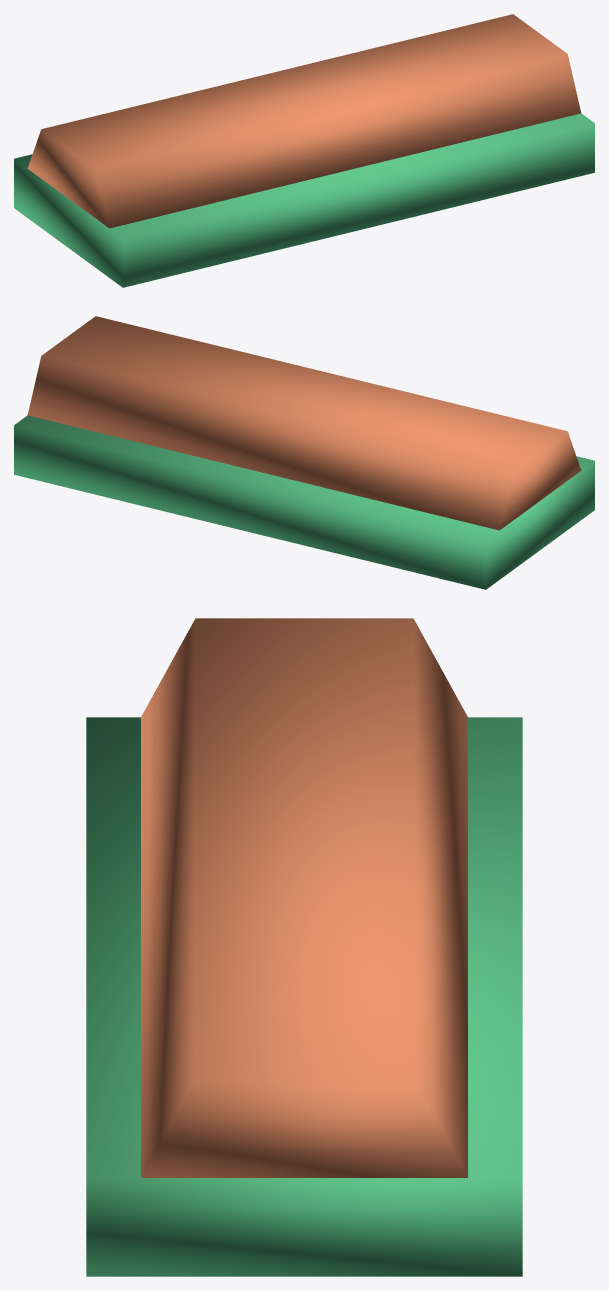
The model's file is cabin-doorway-center_lev3.glb.
3 renders of one model, top to bottom at view 1: azimuth 30°, elevation 25°; view 2: azimuth 150°, elevation 25°; view 3: azimuth 270°, elevation 25°, orthographic. The views are drawn at different scales.
Parts seen in each view (by area): view 1: cabin-doorway-center_lev3; view 2: cabin-doorway-center_lev3; view 3: cabin-doorway-center_lev3.
Boxes of the visible parts, x1,y1,x2,y2 form: cabin-doorway-center_lev3: (14,14,594,287); cabin-doorway-center_lev3: (14,316,594,589); cabin-doorway-center_lev3: (86,618,522,1276).
Size of the model in its own units: 6 by 1.2 by 2.4.
1 material, 1 textured.
